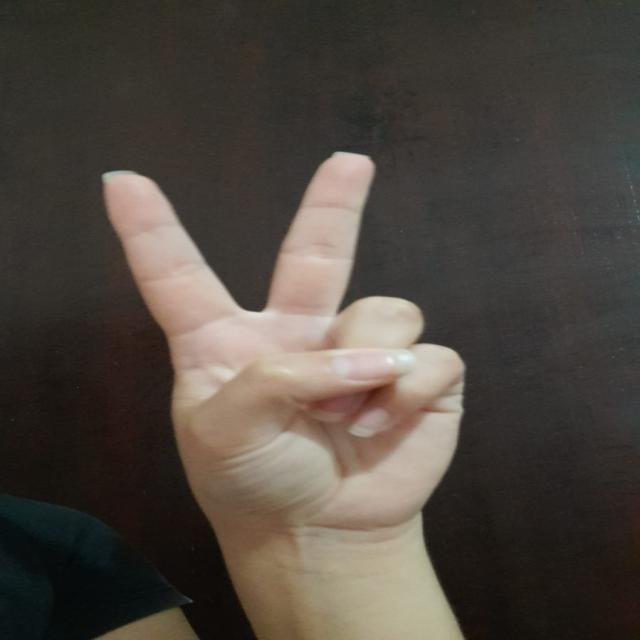V: (82, 154, 502, 540)
